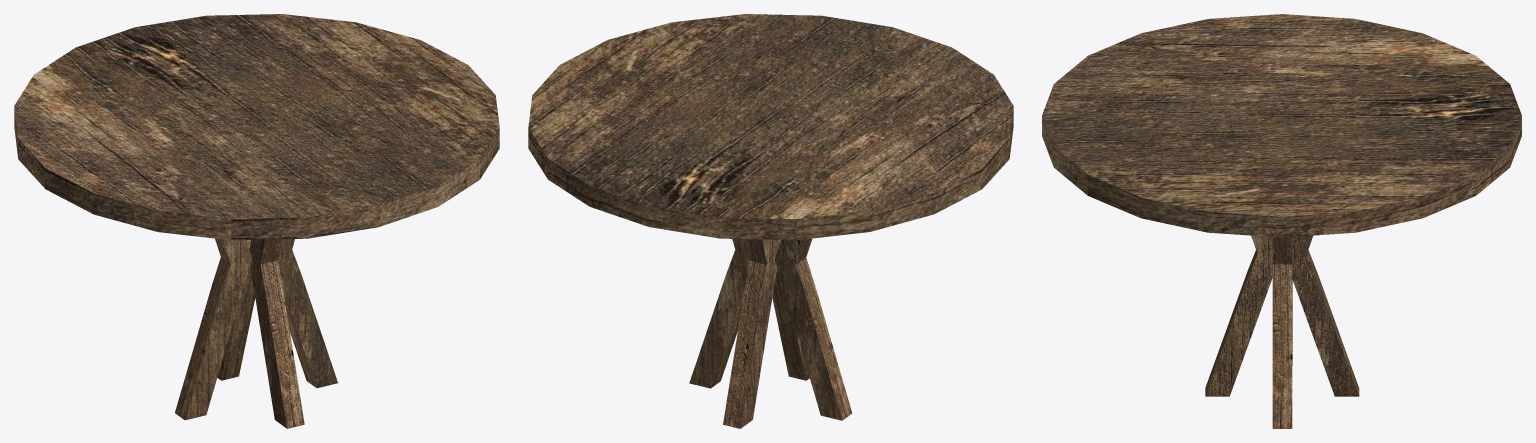
File: MesaRedondaMadeiraV2.fbx
The picture shows the model from 3 angles, left to right: view 1: azimuth 30°, elevation 25°; view 2: azimuth 150°, elevation 25°; view 3: azimuth 270°, elevation 25°; orthographic projection.
Parts seen in each view (by area): view 1: pCylinder1, pCube4, pCube1, pCube2, pCube3; view 2: pCylinder1, pCube4, pCube3, pCube2, pCube1; view 3: pCylinder1, pCube1, pCube3, pCube2.
Part boxes in pixels (bbox=[...]): pCylinder1: bbox=[14, 14, 499, 240]; pCube4: bbox=[175, 238, 252, 420]; pCube1: bbox=[249, 239, 304, 428]; pCube2: bbox=[278, 239, 337, 388]; pCube3: bbox=[217, 240, 255, 380]; pCylinder1: bbox=[528, 14, 1013, 240]; pCube4: bbox=[774, 238, 852, 420]; pCube3: bbox=[723, 239, 777, 428]; pCube2: bbox=[689, 239, 749, 388]; pCube1: bbox=[772, 240, 809, 380]; pCylinder1: bbox=[1042, 14, 1521, 237]; pCube1: bbox=[1205, 235, 1272, 396]; pCube3: bbox=[1292, 235, 1359, 396]; pCube2: bbox=[1272, 237, 1292, 428].
Size of the model in its own units: 1.38 by 0.8771 by 1.38.
Materials: 1 (1 with a texture image).
